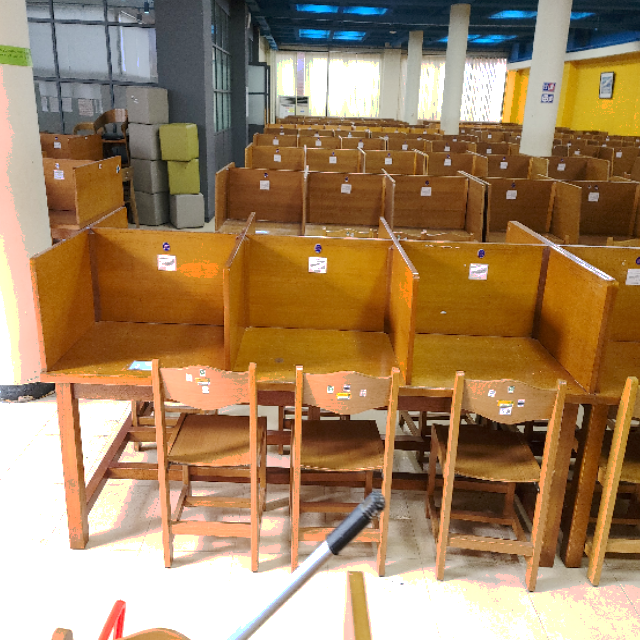empty: (423, 218, 599, 470), (39, 223, 225, 443), (233, 225, 412, 452)
